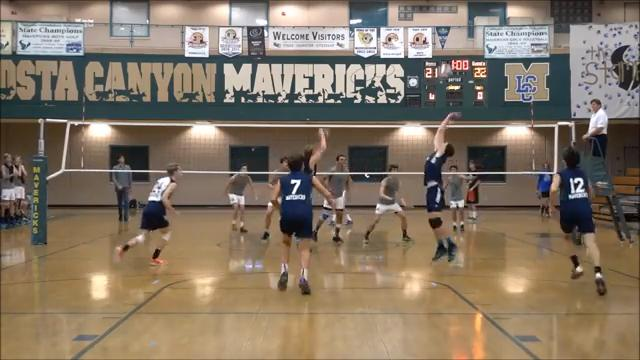Player: (271, 154, 332, 294), (551, 147, 606, 294), (116, 163, 181, 264), (363, 164, 411, 243), (313, 154, 350, 243), (225, 164, 256, 232), (446, 174, 464, 231), (466, 174, 480, 220), (261, 201, 274, 240)
Set: (418, 108, 468, 274)
